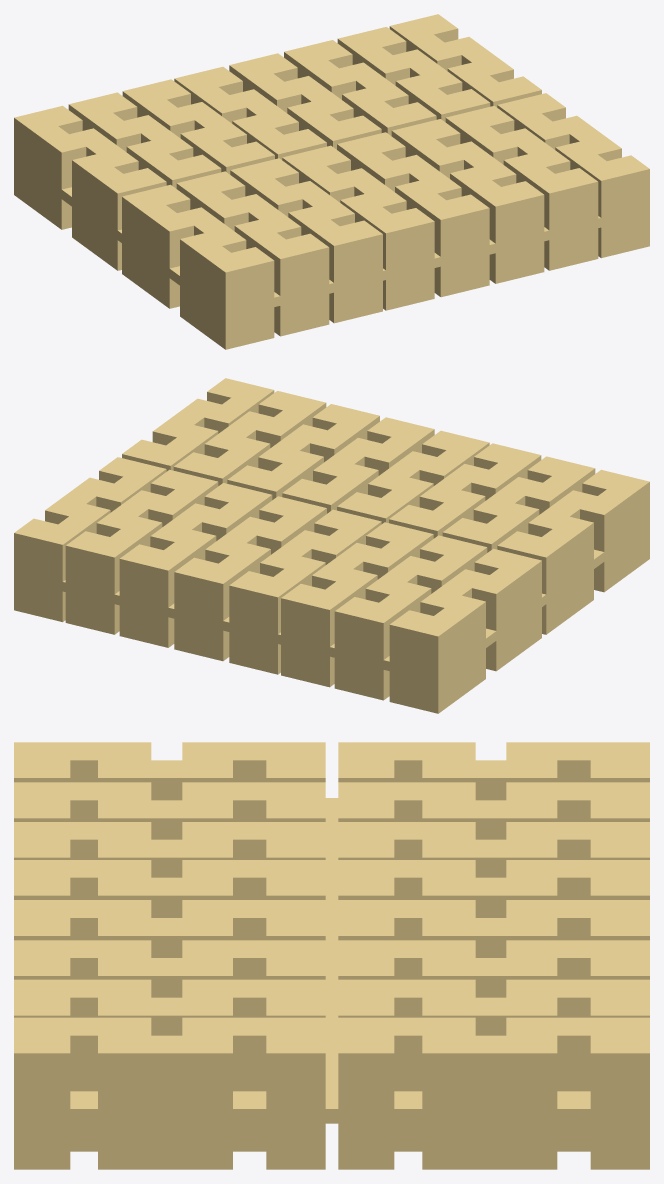
The model's file is ramen.fbx.
3 views of the same model, one above another, from view 1: azimuth 30°, elevation 25°; view 2: azimuth 150°, elevation 25°; view 3: azimuth 270°, elevation 25° (orthographic). The views are drawn at different scales.
Parts seen in each view (by area): view 1: ramen; view 2: ramen; view 3: ramen.
Part boxes in pixels (box(x1,y1,x2,y2)): ramen: box(14, 14, 649, 349); ramen: box(14, 378, 649, 713); ramen: box(14, 742, 649, 1169).
Size of the model in its own units: 142 by 24.67 by 122.
